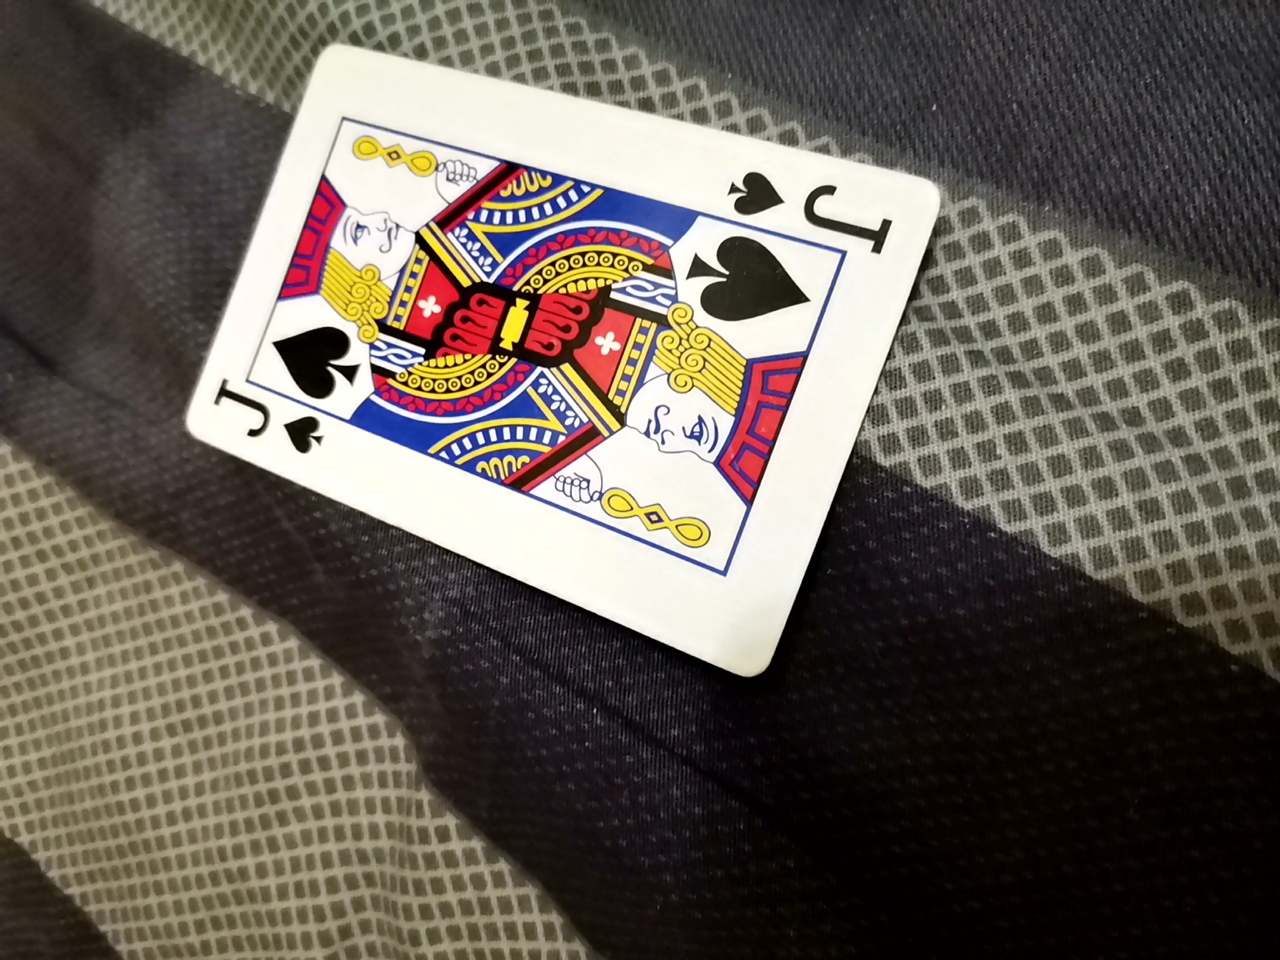ht j: (167, 57, 953, 673)
